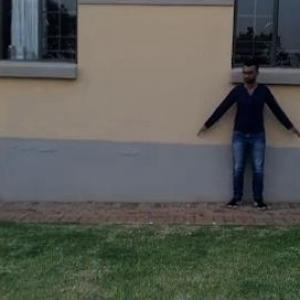land: (195, 60, 299, 221)
